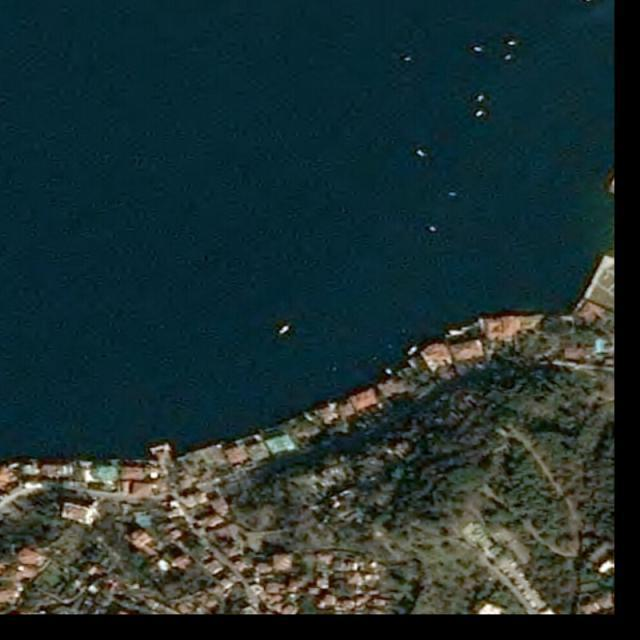ship: (278, 324, 291, 336), (428, 225, 438, 234), (417, 149, 426, 158), (475, 110, 485, 118), (507, 39, 518, 46), (478, 94, 485, 102), (504, 53, 512, 60), (474, 46, 483, 52), (403, 57, 412, 62), (449, 192, 458, 197)
